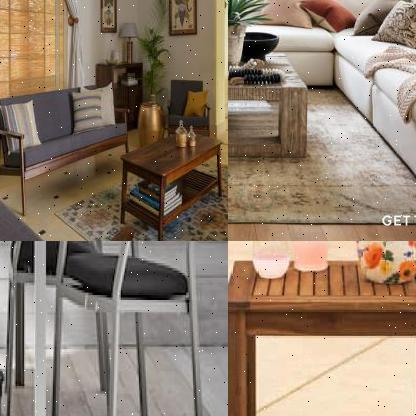table: (228, 250, 415, 415), (112, 121, 227, 240), (228, 48, 313, 167), (0, 241, 50, 415)
